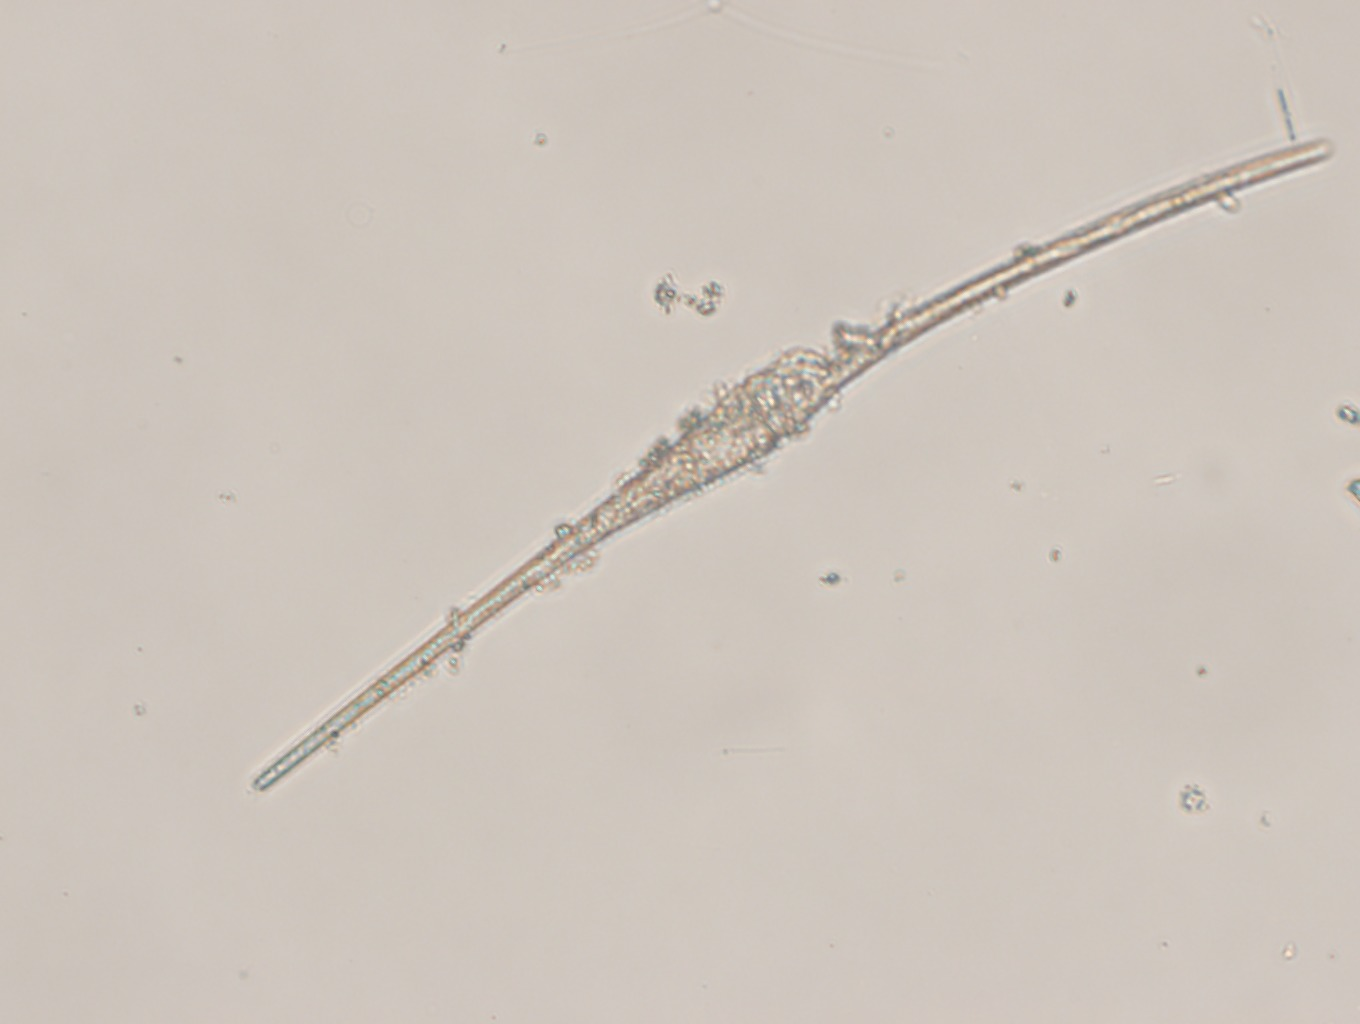ceratium fusus: (241, 131, 1340, 801)
